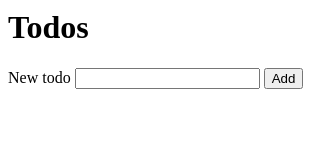
Test: App › toggles via clicking the label text
Type "Buy milk" into the field labelled "New todo" at (167, 78), box [75,68,260,89]
Then press Enter
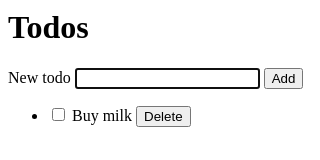
Click the text "Buy milk" at (90, 115), box [48,107,132,124]
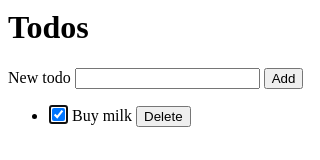
expect the checkbox labelled "Buy milk" is checked: met, box [52,108,65,121]
